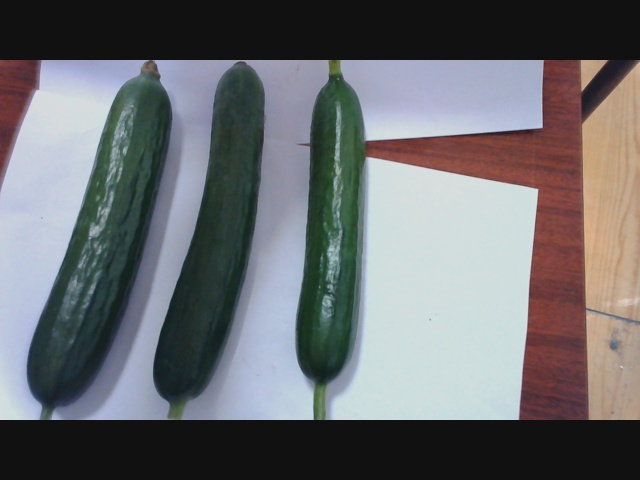cucumber: (152, 61, 270, 411), (29, 81, 152, 412), (284, 65, 366, 420)
